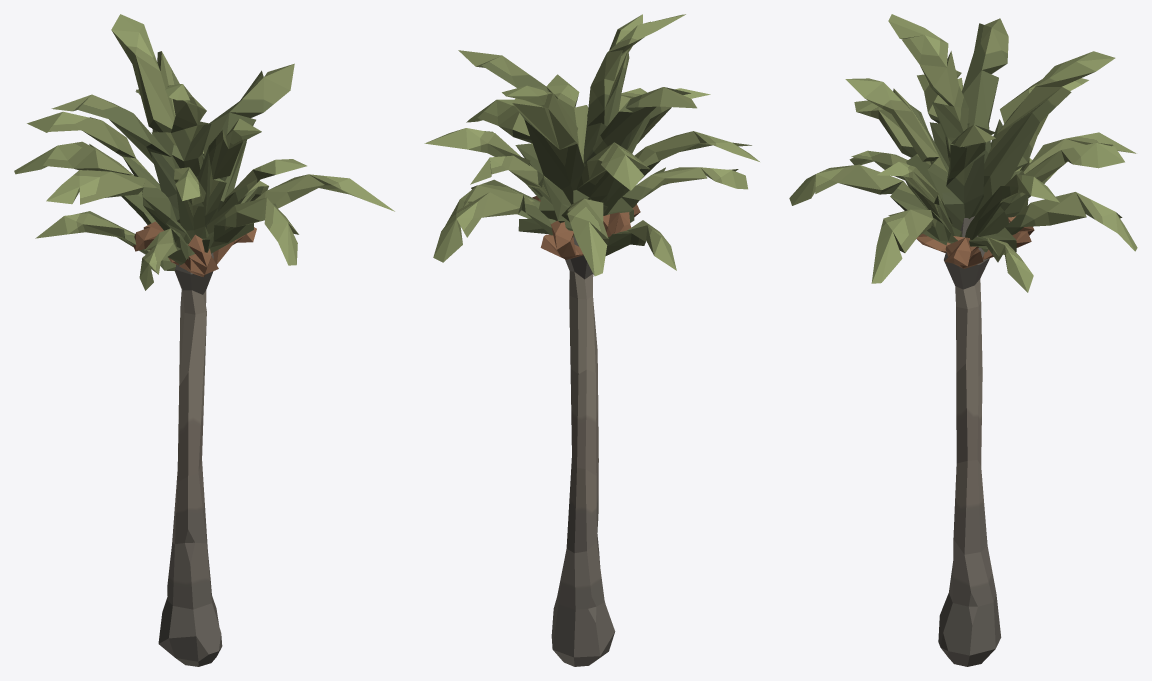
File: SM_Env_Tree_Big_02.fbx
3 renders of one model, left to right at view 1: azimuth 30°, elevation 25°; view 2: azimuth 150°, elevation 25°; view 3: azimuth 270°, elevation 25°, orthographic. The views are drawn at different scales.
Parts seen in each view (by area): view 1: SM_Env_Tree_Big_02; view 2: SM_Env_Tree_Big_02; view 3: SM_Env_Tree_Big_02.
Boxes of the visible parts, x1,y1,x2,y2 form: SM_Env_Tree_Big_02: (14,14,394,666); SM_Env_Tree_Big_02: (424,14,759,666); SM_Env_Tree_Big_02: (789,14,1137,666).
Size of the model in its own units: 562 by 1043 by 533.
